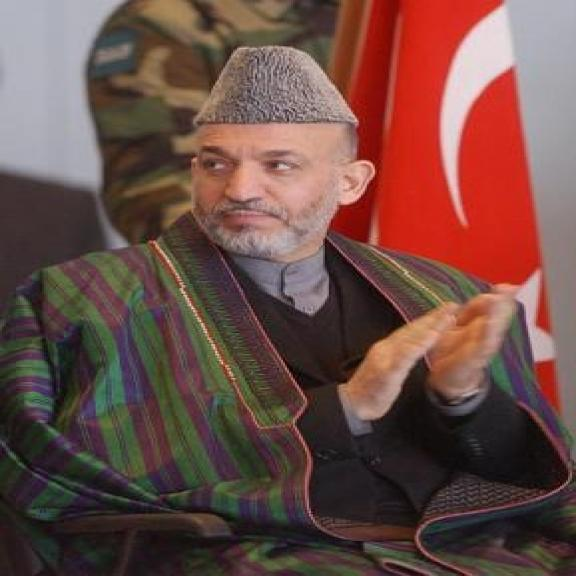face: (188, 121, 378, 251)
